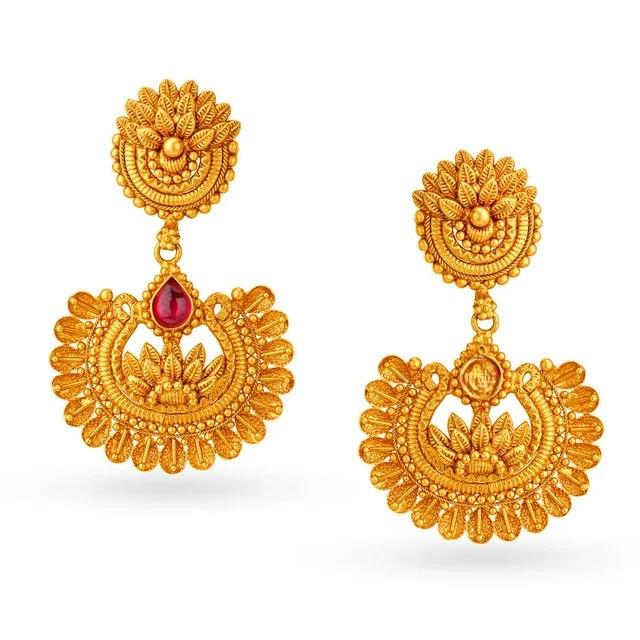missing gem: (463, 354, 501, 398)
